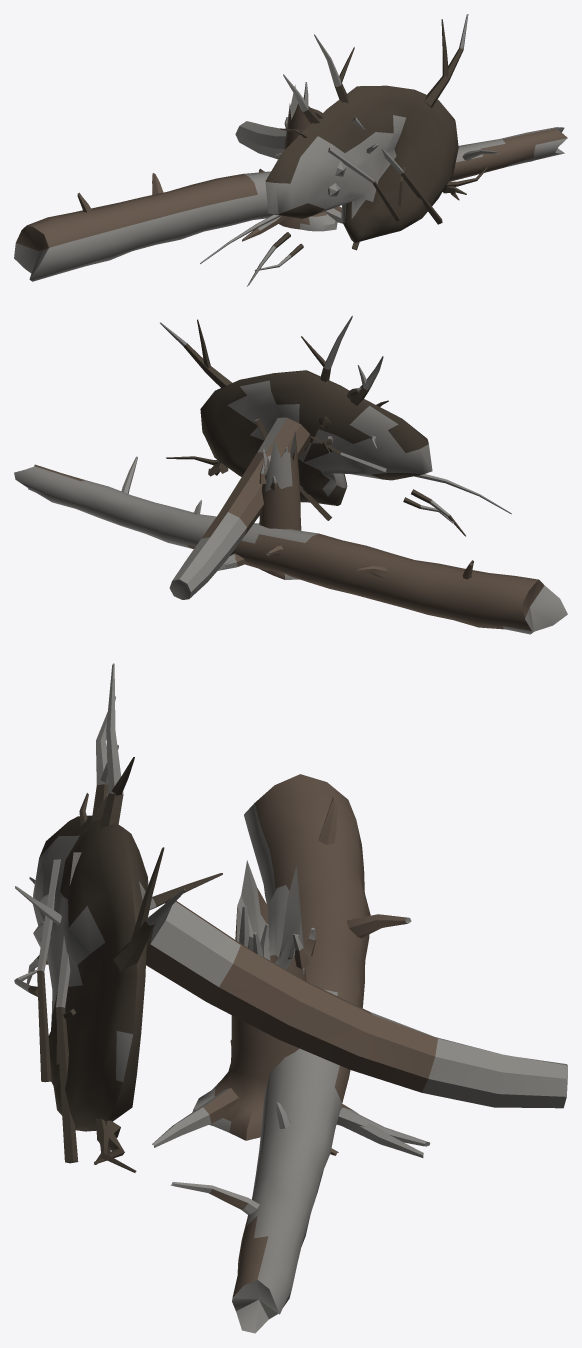
Rendered from deadwood.glb.
The picture shows the model from 3 angles, top to bottom: view 1: azimuth 30°, elevation 25°; view 2: azimuth 150°, elevation 25°; view 3: azimuth 270°, elevation 25°; orthographic projection. The views are drawn at different scales.
Parts seen in each view (by area): view 1: deadwood_v2_LOD0, deadwood_v0_LOD0, deadwood_v1_LOD0; view 2: deadwood_v2_LOD0, deadwood_v0_LOD0, deadwood_v1_LOD0; view 3: deadwood_v2_LOD0, deadwood_v0_LOD0, deadwood_v1_LOD0.
Boxes of the visible parts, x1=… form: deadwood_v2_LOD0: x1=200, y1=14, x2=488, y2=286; deadwood_v0_LOD0: x1=14, y1=127, x2=567, y2=281; deadwood_v1_LOD0: x1=242, y1=85, x2=342, y2=241; deadwood_v2_LOD0: x1=160, y1=315, x2=511, y2=599; deadwood_v0_LOD0: x1=14, y1=456, x2=567, y2=634; deadwood_v1_LOD0: x1=218, y1=431, x2=301, y2=579; deadwood_v2_LOD0: x1=14, y1=663, x2=567, y2=1172; deadwood_v0_LOD0: x1=170, y1=774, x2=411, y2=1333; deadwood_v1_LOD0: x1=152, y1=860, x2=429, y2=1157.
Size of what is drawn, in the model's own units: 7.35 by 2.87 by 3.43.
